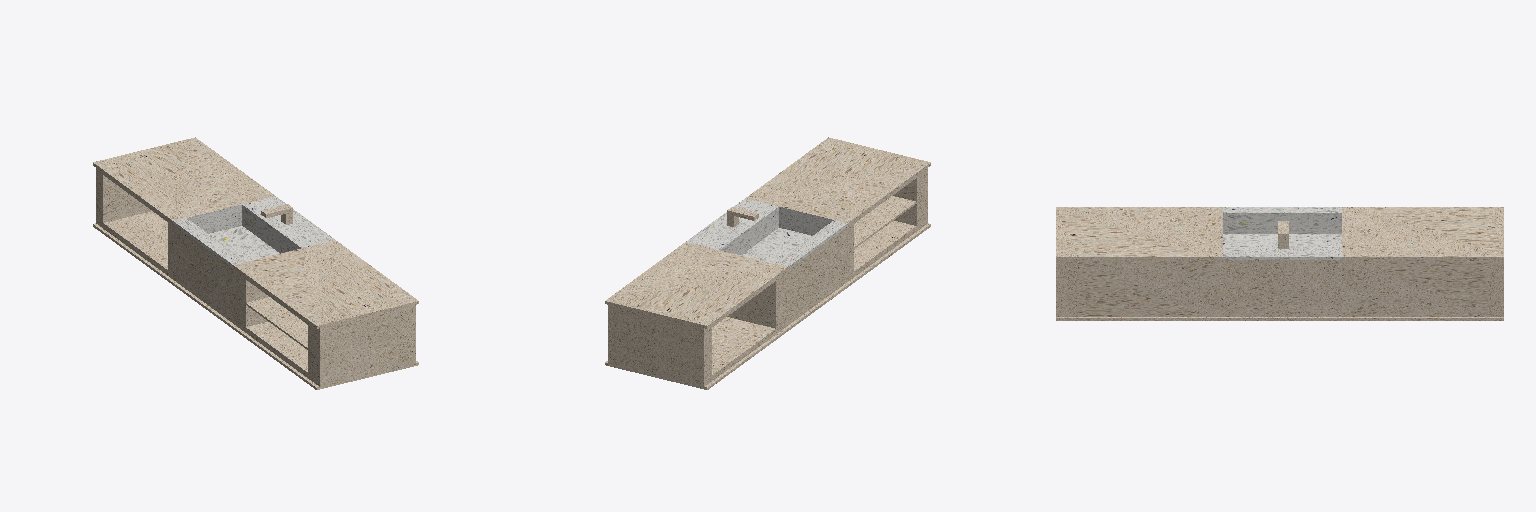
The picture shows the model from 3 angles: view 1: azimuth 30°, elevation 25°; view 2: azimuth 150°, elevation 25°; view 3: azimuth 270°, elevation 25°; orthographic projection.
Visible parts, largest first — view 1: Cube.004; view 2: Cube.004; view 3: Cube.004.
Part boxes in pixels (bbox=[...]): Cube.004: bbox=[93, 137, 418, 389]; Cube.004: bbox=[605, 137, 930, 389]; Cube.004: bbox=[1056, 207, 1503, 320].
Bounding box in the file's own units: 2.12 × 1.58 × 8.01.
2 materials, 2 textured.